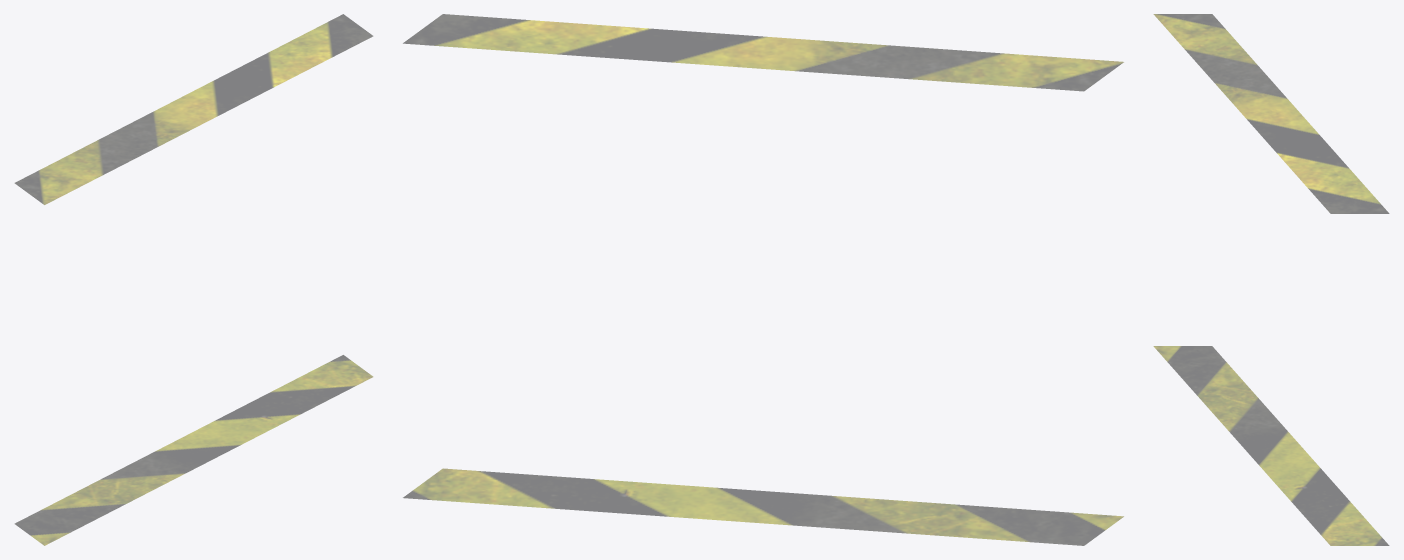
Rendered from machine1_stripes.fbx.
The picture shows the model from 3 angles, left to right: view 1: azimuth 30°, elevation 25°; view 2: azimuth 150°, elevation 25°; view 3: azimuth 270°, elevation 25°; orthographic projection. The views are drawn at different scales.
Visible parts, largest first — view 1: Plane_423; view 2: Plane_423; view 3: Plane_423.
Part boxes in pixels (x1,y1,x2,y2): Plane_423: (15, 14, 372, 545); Plane_423: (403, 14, 1123, 545); Plane_423: (1153, 14, 1389, 545).
Size of the model in its own units: 8 by 6.2 by 4.
Materials: 1 (1 with a texture image).
